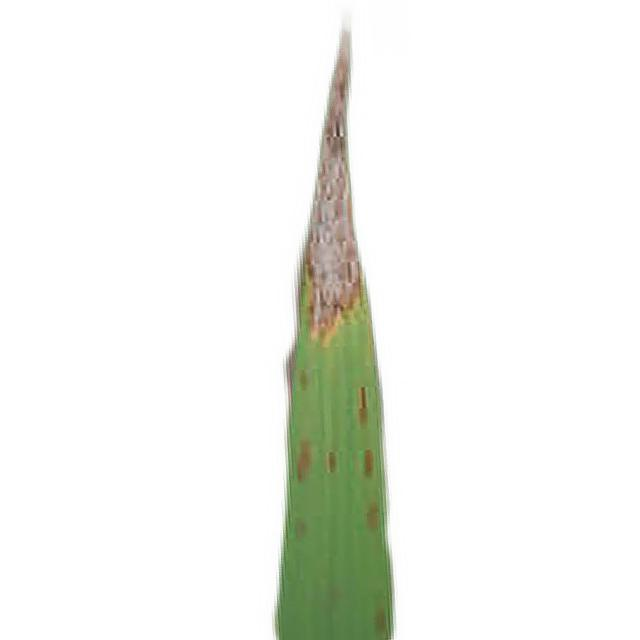Leaf scald: (204, 0, 566, 640)
